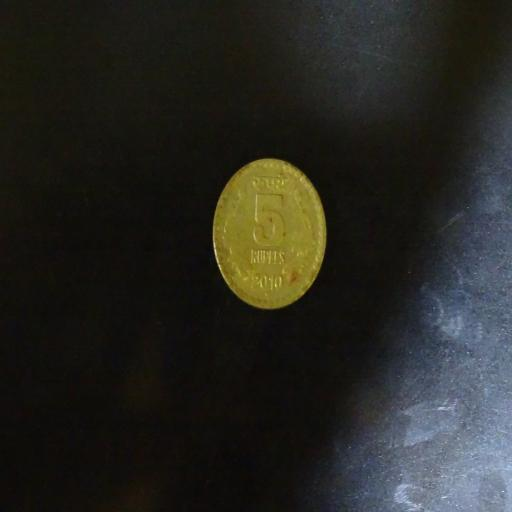rupee5: (212, 158, 327, 310)
